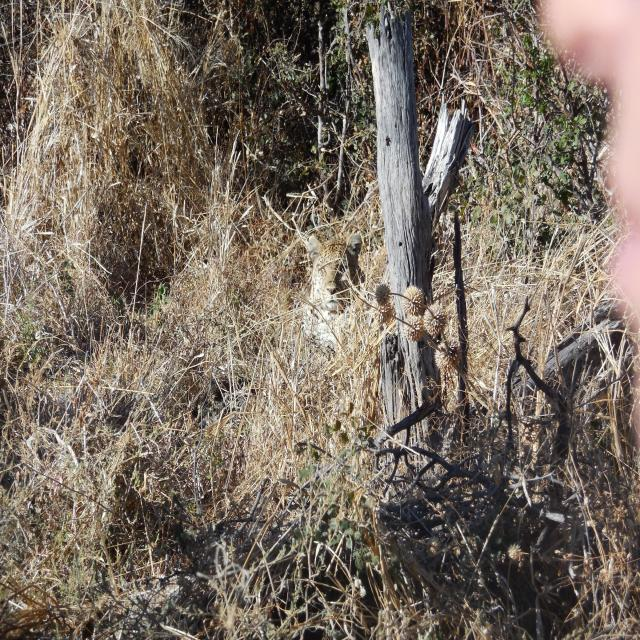Leopard: (298, 221, 373, 365)
